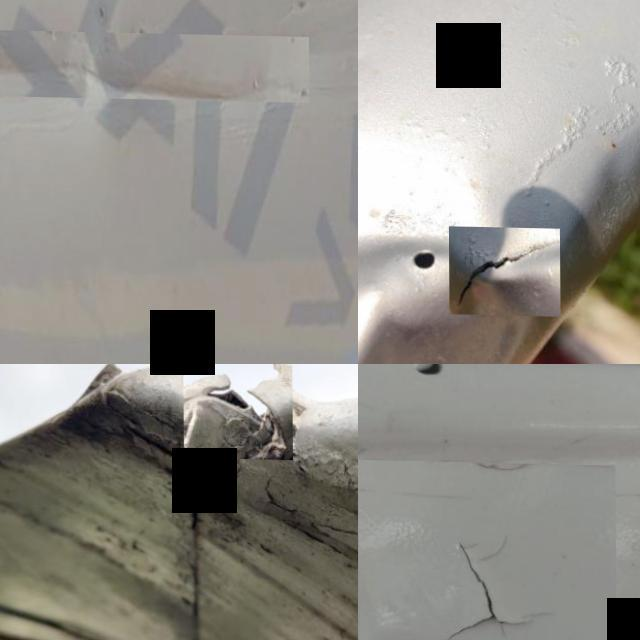Crack: (358, 459, 616, 640), (183, 364, 292, 458), (448, 226, 560, 316), (62, 364, 186, 423)
Dent: (358, 178, 569, 364), (0, 47, 309, 99)
